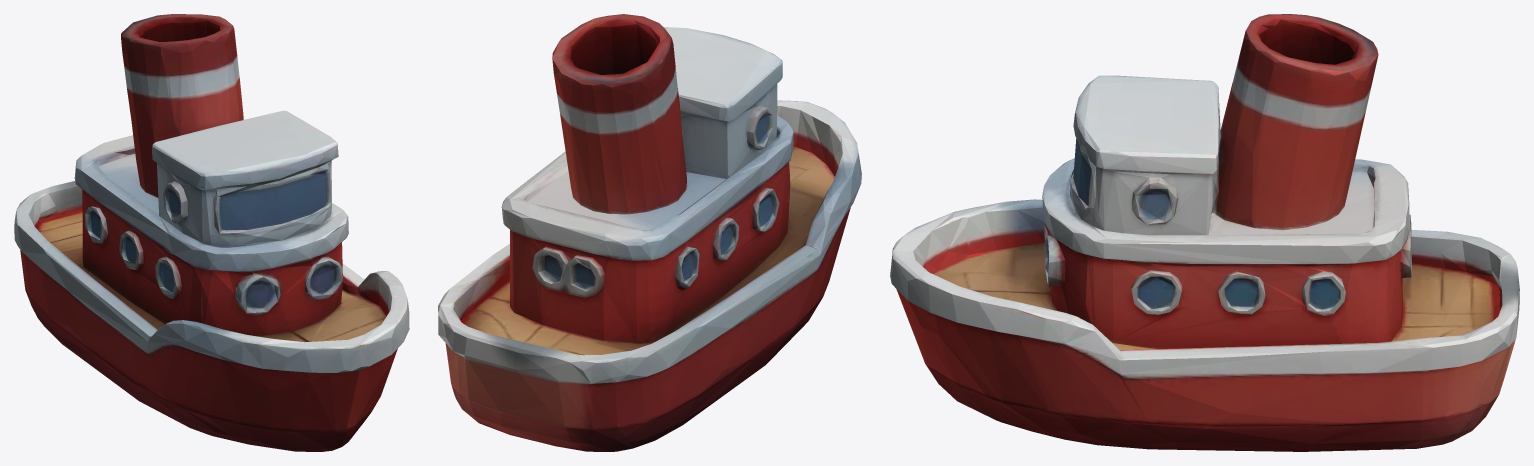
The model's file is ferry.glb.
3 views of the same model, side by side, from view 1: azimuth 30°, elevation 25°; view 2: azimuth 150°, elevation 25°; view 3: azimuth 270°, elevation 25° (orthographic). The views are drawn at different scales.
Visible parts, largest first — view 1: geometry_0; view 2: geometry_0; view 3: geometry_0.
Part boxes in pixels (left/top/right/bottom): geometry_0: left=14, top=14, right=409, bottom=451; geometry_0: left=438, top=14, right=861, bottom=451; geometry_0: left=890, top=14, right=1519, bottom=451.
Size of the model in its own units: 0.4716 by 0.6726 by 0.9986.
1 material, 1 textured.
